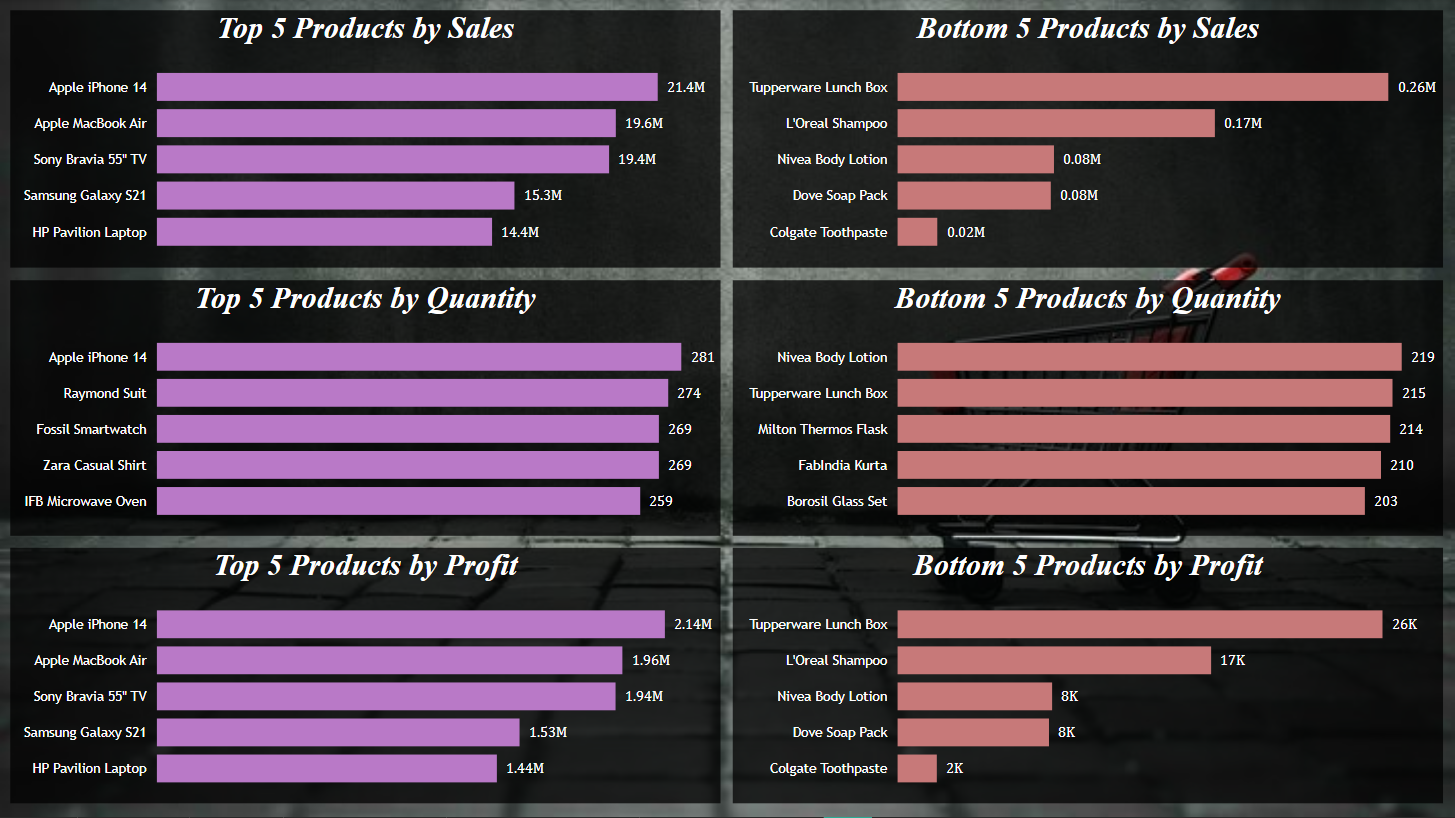

The page's visual inventory and layout, read from the dashboard file:
{"tool":"powerbi","page":{"name":"Product Analysis","canvas":[1280,720],"ordinal":3},"visuals":[{"type":"barChart","title":"Top 5 Products by Sales","fields":{"Category":["Dim Product.Product Name"],"Y":["Sum(Fact Table.Net Sales)"]},"box":[10,10,625,226],"z":0},{"type":"barChart","title":"Top 5 Products by Quantity","fields":{"Category":["Dim Product.Product Name"],"Y":["Sum(Fact Table.Units Sold)"]},"box":[9.7,246.9,624.6,225.2],"z":1000},{"type":"barChart","title":"Top 5 Products by Profit","fields":{"Category":["Dim Product.Product Name"],"Y":["Sum(Fact Table.Profit)"]},"box":[9.7,483,624.6,225.2],"z":2000},{"type":"barChart","title":"Bottom 5 Products by Sales","fields":{"Category":["Dim Product.Product Name"],"Y":["Sum(Fact Table.Net Sales)"]},"box":[645.7,10,625,226],"z":3000},{"type":"barChart","title":"Bottom 5 Products by Quantity","fields":{"Category":["Dim Product.Product Name"],"Y":["Sum(Fact Table.Units Sold)"]},"box":[645.4,246.9,624.6,225.2],"z":4000},{"type":"barChart","title":"Bottom 5 Products by Profit","fields":{"Category":["Dim Product.Product Name"],"Y":["Sum(Fact Table.Profit)"]},"box":[645.4,483,624.6,225.2],"z":5000}]}

Visuals, with their boxes in screenshot pixels (x1, y1, x2, y2), scaled from the page's 1280x720 canvas onto the 1455x818 screenshot:
"Top 5 Products by Sales" barChart: left=11, top=11, right=722, bottom=268
"Top 5 Products by Quantity" barChart: left=11, top=281, right=721, bottom=536
"Top 5 Products by Profit" barChart: left=11, top=549, right=721, bottom=805
"Bottom 5 Products by Sales" barChart: left=734, top=11, right=1444, bottom=268
"Bottom 5 Products by Quantity" barChart: left=734, top=281, right=1444, bottom=536
"Bottom 5 Products by Profit" barChart: left=734, top=549, right=1444, bottom=805
